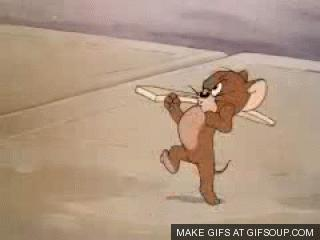jerry: (159, 66, 269, 206)
